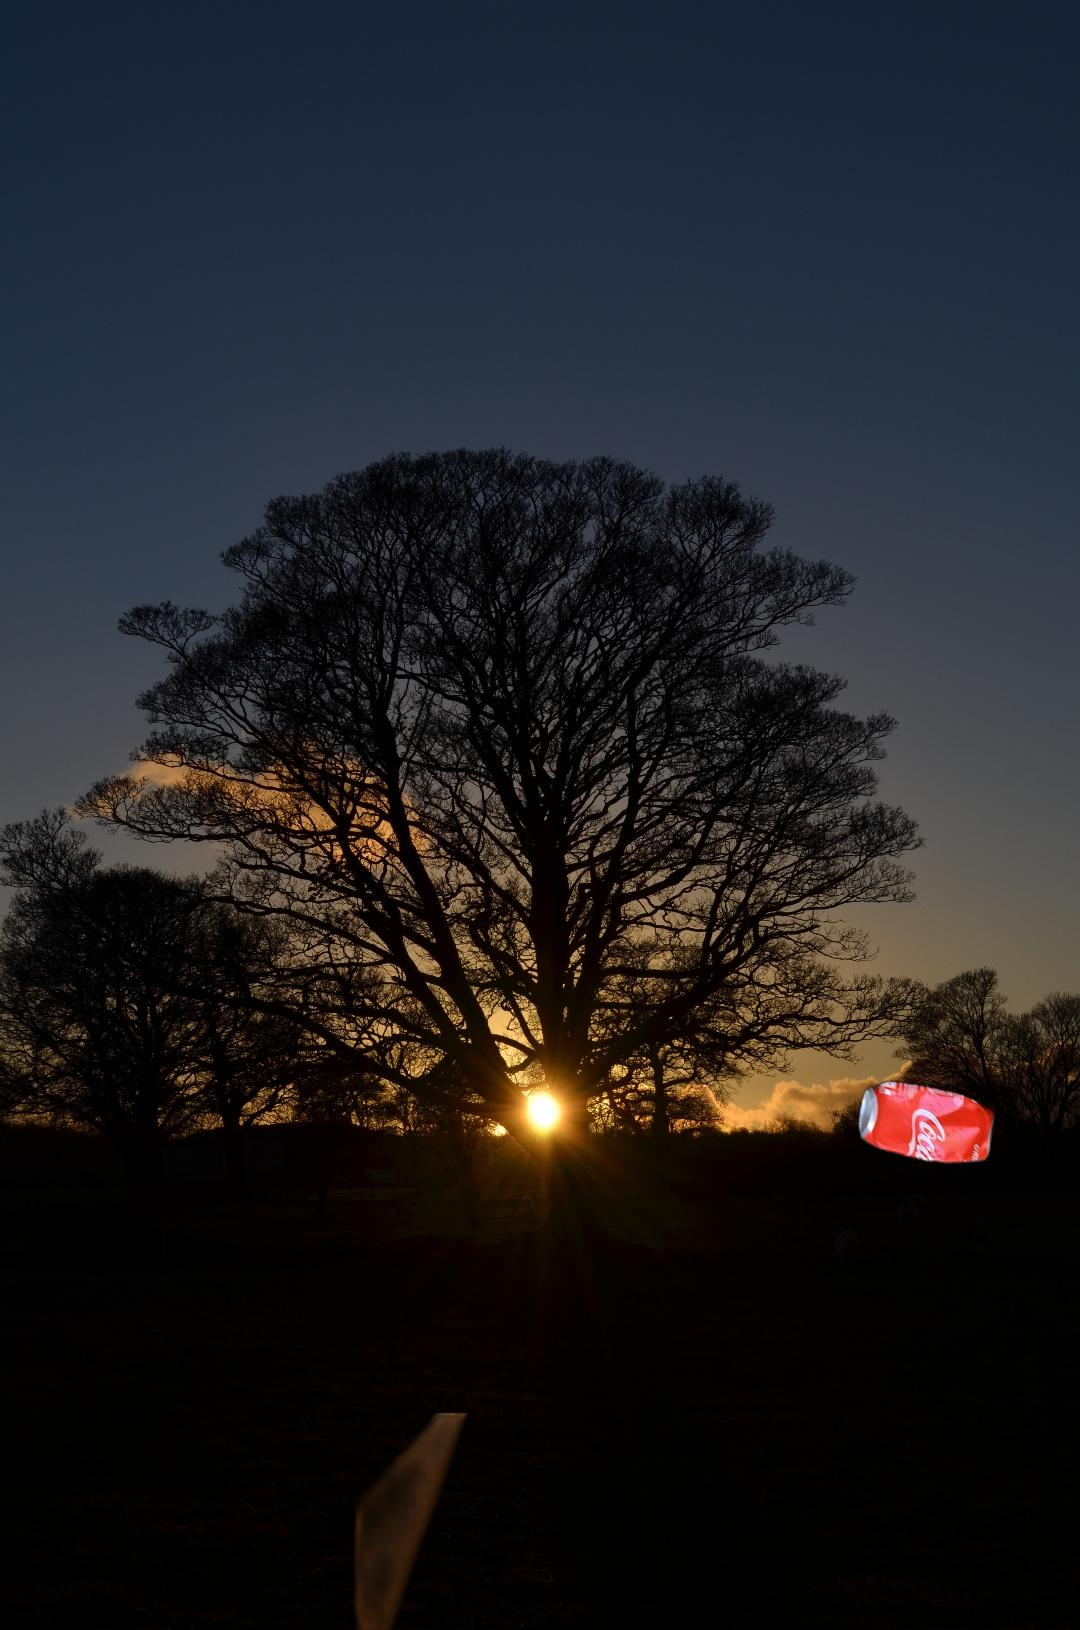metal-cans: (853, 1075, 1000, 1170)
trashbox-cardboard: (277, 1413, 542, 1630)
